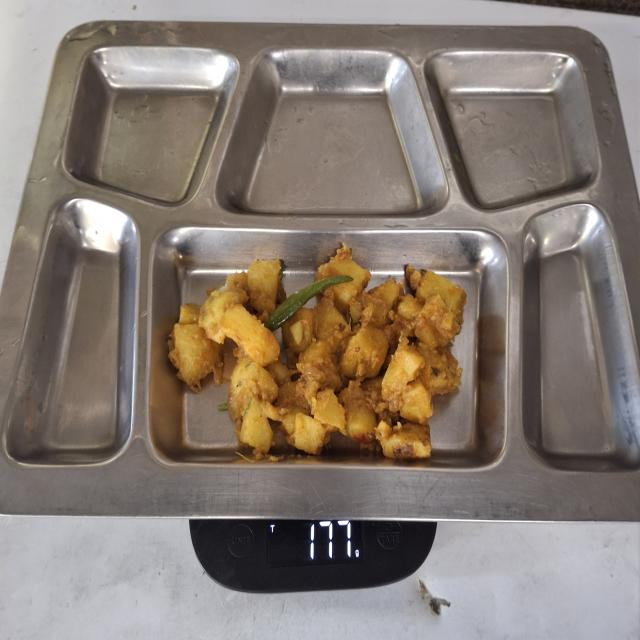Aloo Sabji: (164, 245, 467, 464)
